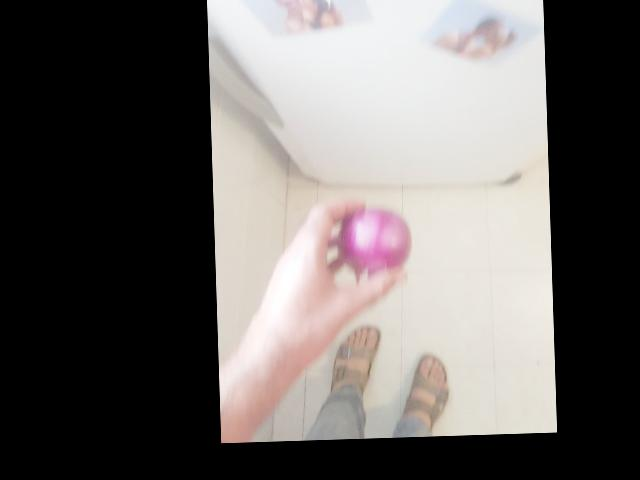onion: (341, 208, 414, 279)
